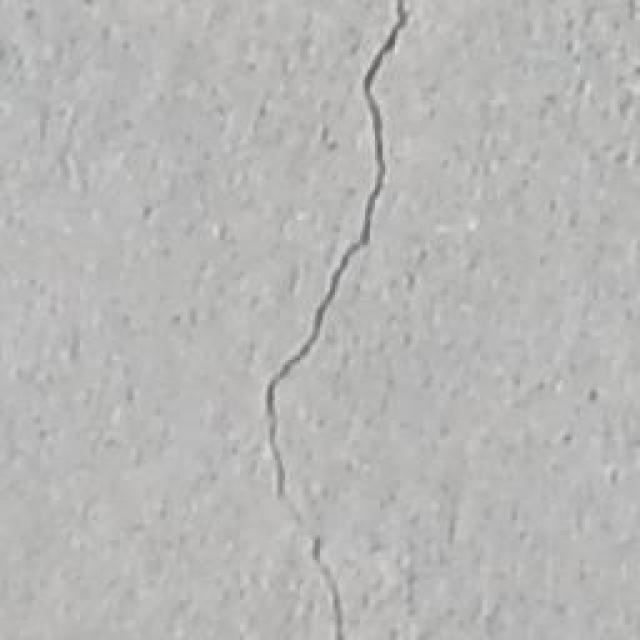concrete-crack: (265, 0, 405, 640)
